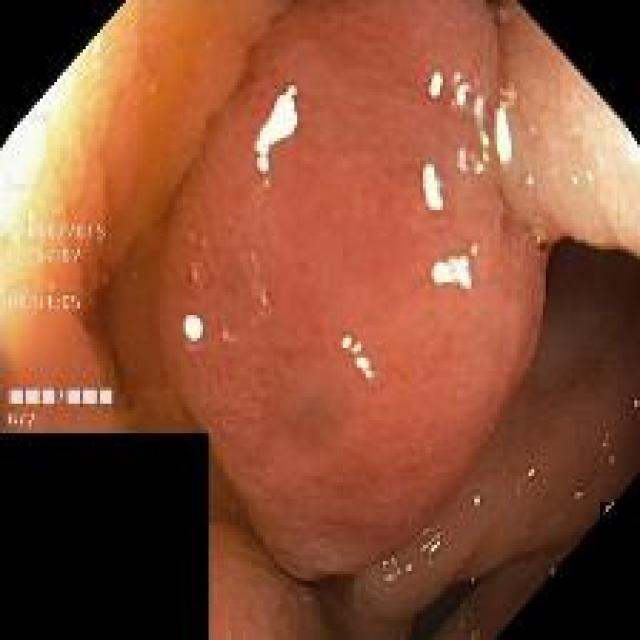Polyps: (159, 4, 546, 580)
